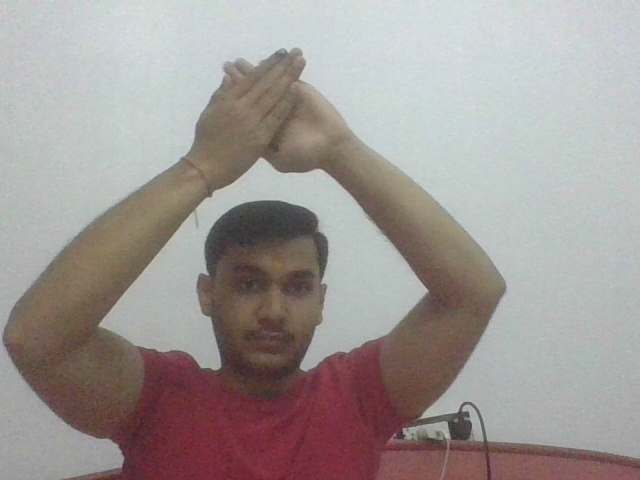H: (184, 44, 348, 182)
